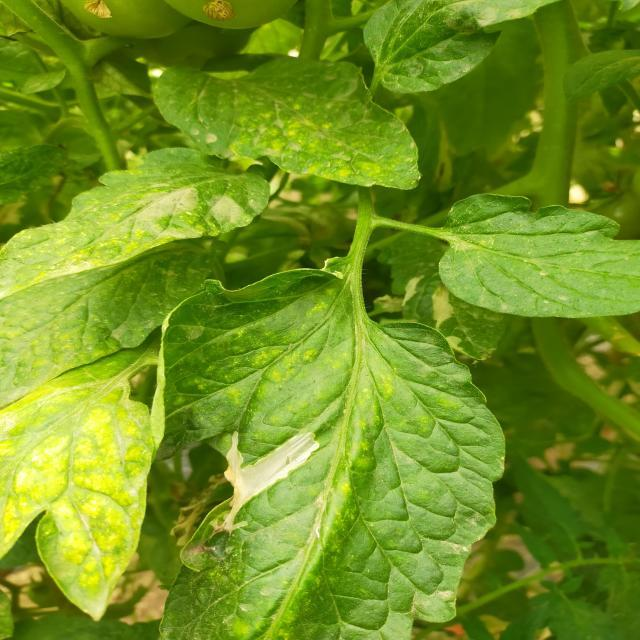Tuta absoluta: (173, 394, 325, 540)
